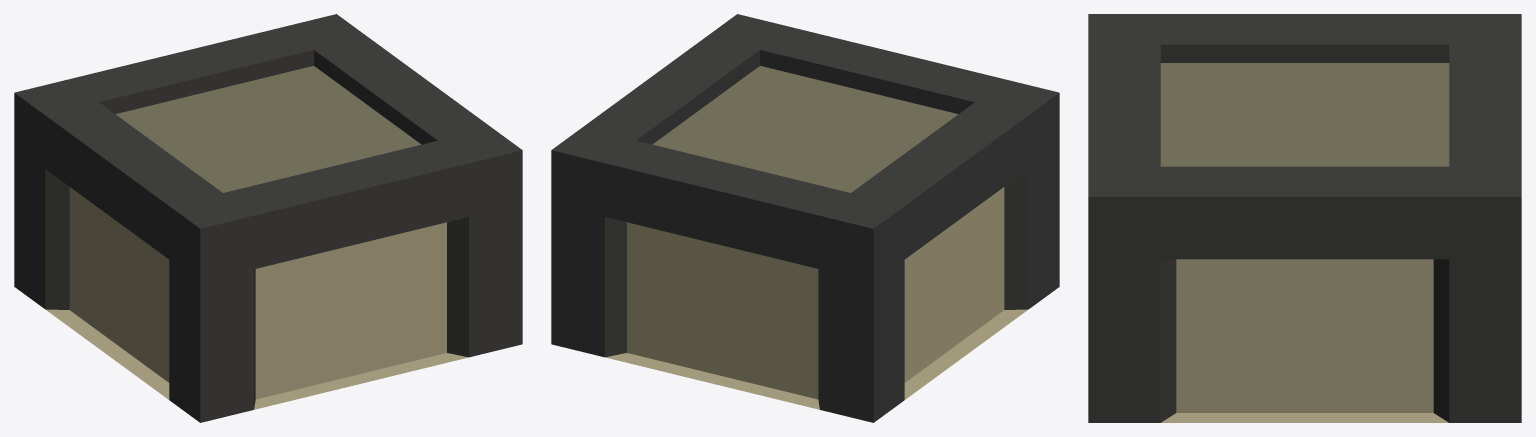
File: table_2.fbx
The picture shows the model from 3 angles, left to right: view 1: azimuth 30°, elevation 25°; view 2: azimuth 150°, elevation 25°; view 3: azimuth 270°, elevation 25°; orthographic projection. The views are drawn at different scales.
Visible parts, largest first — view 1: Cube.009; view 2: Cube.009; view 3: Cube.009.
Boxes of the visible parts, x1,y1,x2,y2 form: Cube.009: (14,14,522,422); Cube.009: (551,14,1059,422); Cube.009: (1088,14,1521,422).
Bounding box in the file's own units: 272 × 157 × 272.
